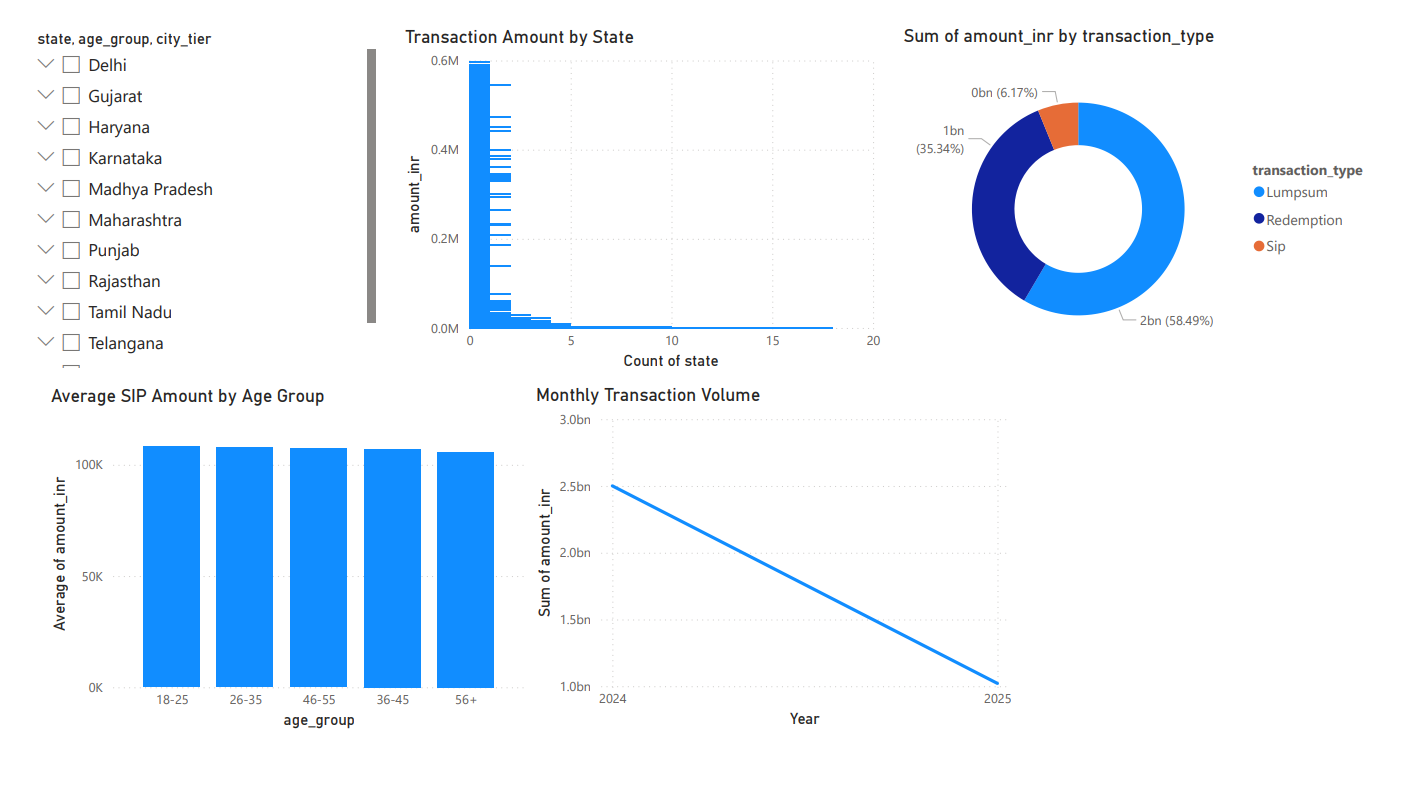

What the dashboard file says about the page in this screenshot:
{"tool":"powerbi","page":{"name":"Investor Analytics","canvas":[1280,720],"ordinal":2},"visuals":[{"type":"clusteredBarChart","title":"Transaction Amount by State","fields":{"Category":["clean_investor_transactions.amount_inr"],"Y":["CountNonNull(clean_investor_transactions.state)"]},"box":[353.8,1.2,457.7,327.8],"z":0},{"type":"donutChart","fields":{"Category":["clean_investor_transactions.transaction_type"],"Y":["Sum(clean_investor_transactions.amount_inr)"]},"box":[822.6,0,457.7,327.8],"z":1000},{"type":"clusteredColumnChart","title":"Average SIP Amount by Age Group","fields":{"Category":["clean_investor_transactions.age_group"],"Y":["Avg(clean_investor_transactions.amount_inr)"]},"box":[21,338.9,456.4,327.8],"z":2000},{"type":"lineChart","title":"Monthly Transaction Volume","fields":{"Category":["clean_investor_transactions.transaction_date.Variation.Date Hierarchy.Year","clean_investor_transactions.transaction_date.Variation.Date Hierarchy.Quarter","clean_investor_transactions.transaction_date.Variation.Date Hierarchy.Month","clean_investor_transactions.transaction_date.Variation.Date Hierarchy.Day"],"Y":["Sum(clean_investor_transactions.amount_inr)"]},"box":[477,338,457,328],"z":3000},{"type":"slicer","fields":{"Values":["clean_investor_transactions.state","clean_investor_transactions.age_group","clean_investor_transactions.city_tier"]},"box":[0,0,336.5,327.8],"z":4000}]}

Visuals, with their boxes in screenshot pixels (x1, y1, x2, y2), scaled from the page's 1280x720 canvas onto the 1407x786 screenshot:
"Transaction Amount by State" clusteredBarChart: <bbox>389, 1, 892, 359</bbox>
donutChart - clean_investor_transactions.transaction_type x Sum(clean_investor_transactions.amount_inr): <bbox>904, 0, 1406, 358</bbox>
"Average SIP Amount by Age Group" clusteredColumnChart: <bbox>23, 370, 525, 728</bbox>
"Monthly Transaction Volume" lineChart: <bbox>524, 369, 1027, 727</bbox>
slicer - clean_investor_transactions.state x clean_investor_transactions.age_group: <bbox>0, 0, 370, 358</bbox>
